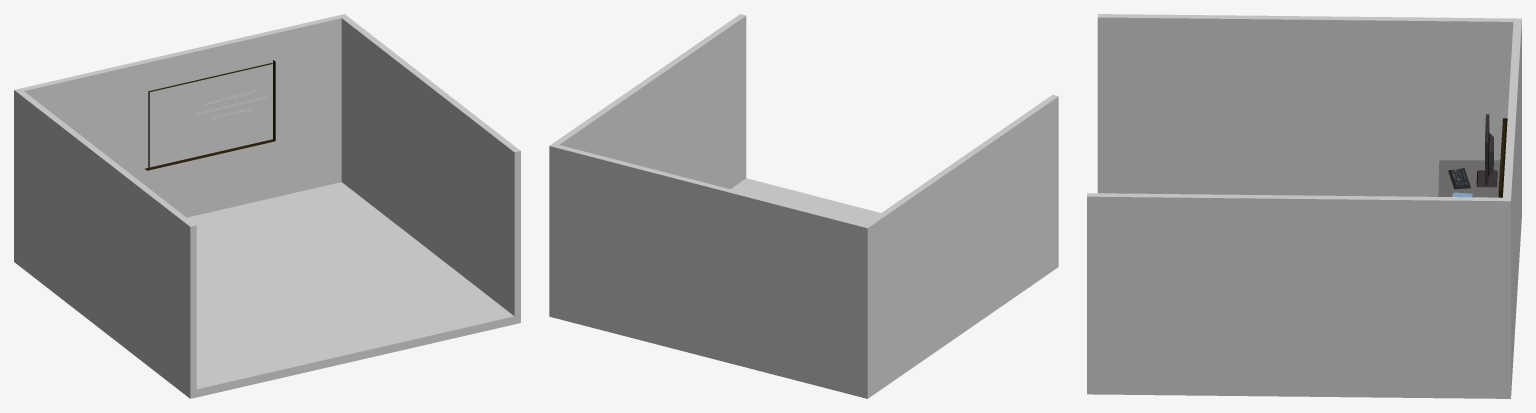
File: Garage1-00.glb
The picture shows the model from 3 angles, left to right: view 1: azimuth 30°, elevation 25°; view 2: azimuth 150°, elevation 25°; view 3: azimuth 270°, elevation 25°; orthographic projection. The views are drawn at different scales.
Visible parts, largest first — view 1: Plane, Plane.001; view 2: Plane; view 3: Plane, Desk, Plane.001.
Part boxes in pixels (x1,y1,x2,y2): Plane: [14, 14, 520, 398]; Plane.001: [145, 60, 275, 170]; Plane: [549, 14, 1058, 398]; Plane: [1087, 14, 1521, 398]; Desk: [1438, 114, 1500, 197]; Plane.001: [1498, 118, 1507, 197].
Size of the model in its own units: 10.66 by 5.25 by 10.46.
6 materials, 4 textured.
